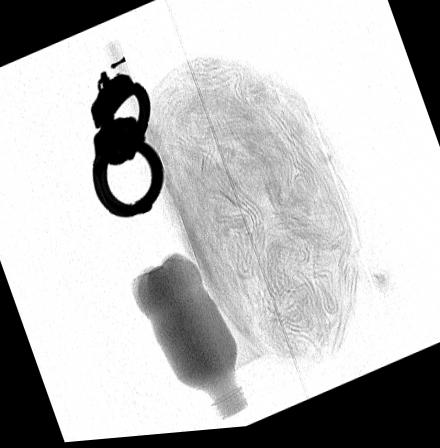HandCuffs: (89, 72, 163, 221)
